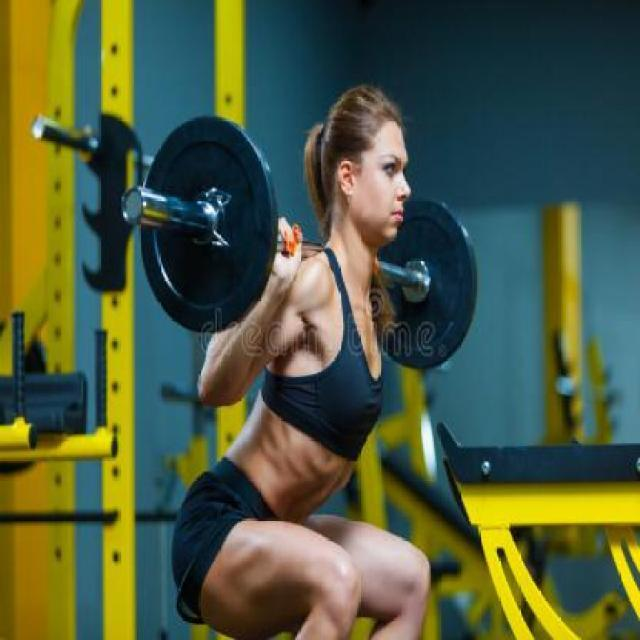Barbell: (119, 180, 152, 231), (28, 113, 47, 142)
